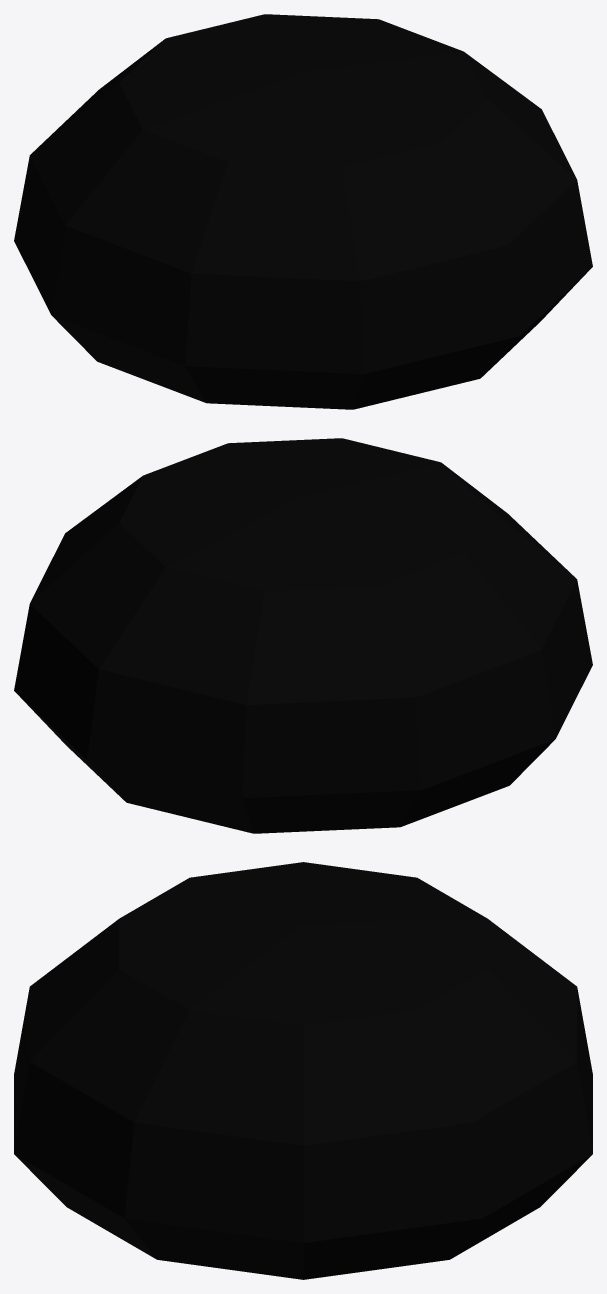
Rendered from Item_sweet_bun.fbx.
3 renders of one model, top to bottom at view 1: azimuth 30°, elevation 25°; view 2: azimuth 150°, elevation 25°; view 3: azimuth 270°, elevation 25°, orthographic. The views are drawn at different scales.
Parts seen in each view (by area): view 1: Bun; view 2: Bun; view 3: Bun.
Boxes of the visible parts, x1,y1,x2,y2 form: Bun: (14, 14, 592, 409); Bun: (14, 438, 592, 833); Bun: (14, 862, 592, 1279).
Size of the model in its own units: 0.1485 by 0.0675 by 0.1412.
